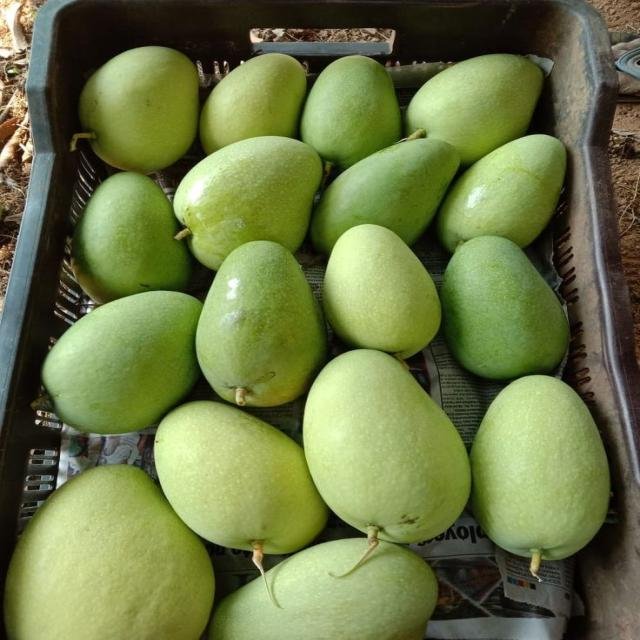mango: (5, 466, 213, 639), (303, 350, 470, 543), (471, 376, 609, 574), (154, 401, 327, 553), (209, 539, 438, 639), (42, 291, 201, 433), (196, 241, 326, 406), (174, 137, 322, 270), (440, 237, 568, 379), (311, 139, 459, 255), (72, 172, 191, 304), (323, 225, 440, 358), (437, 135, 566, 253), (406, 54, 543, 165), (80, 47, 199, 173), (300, 56, 401, 170), (200, 53, 306, 154)
